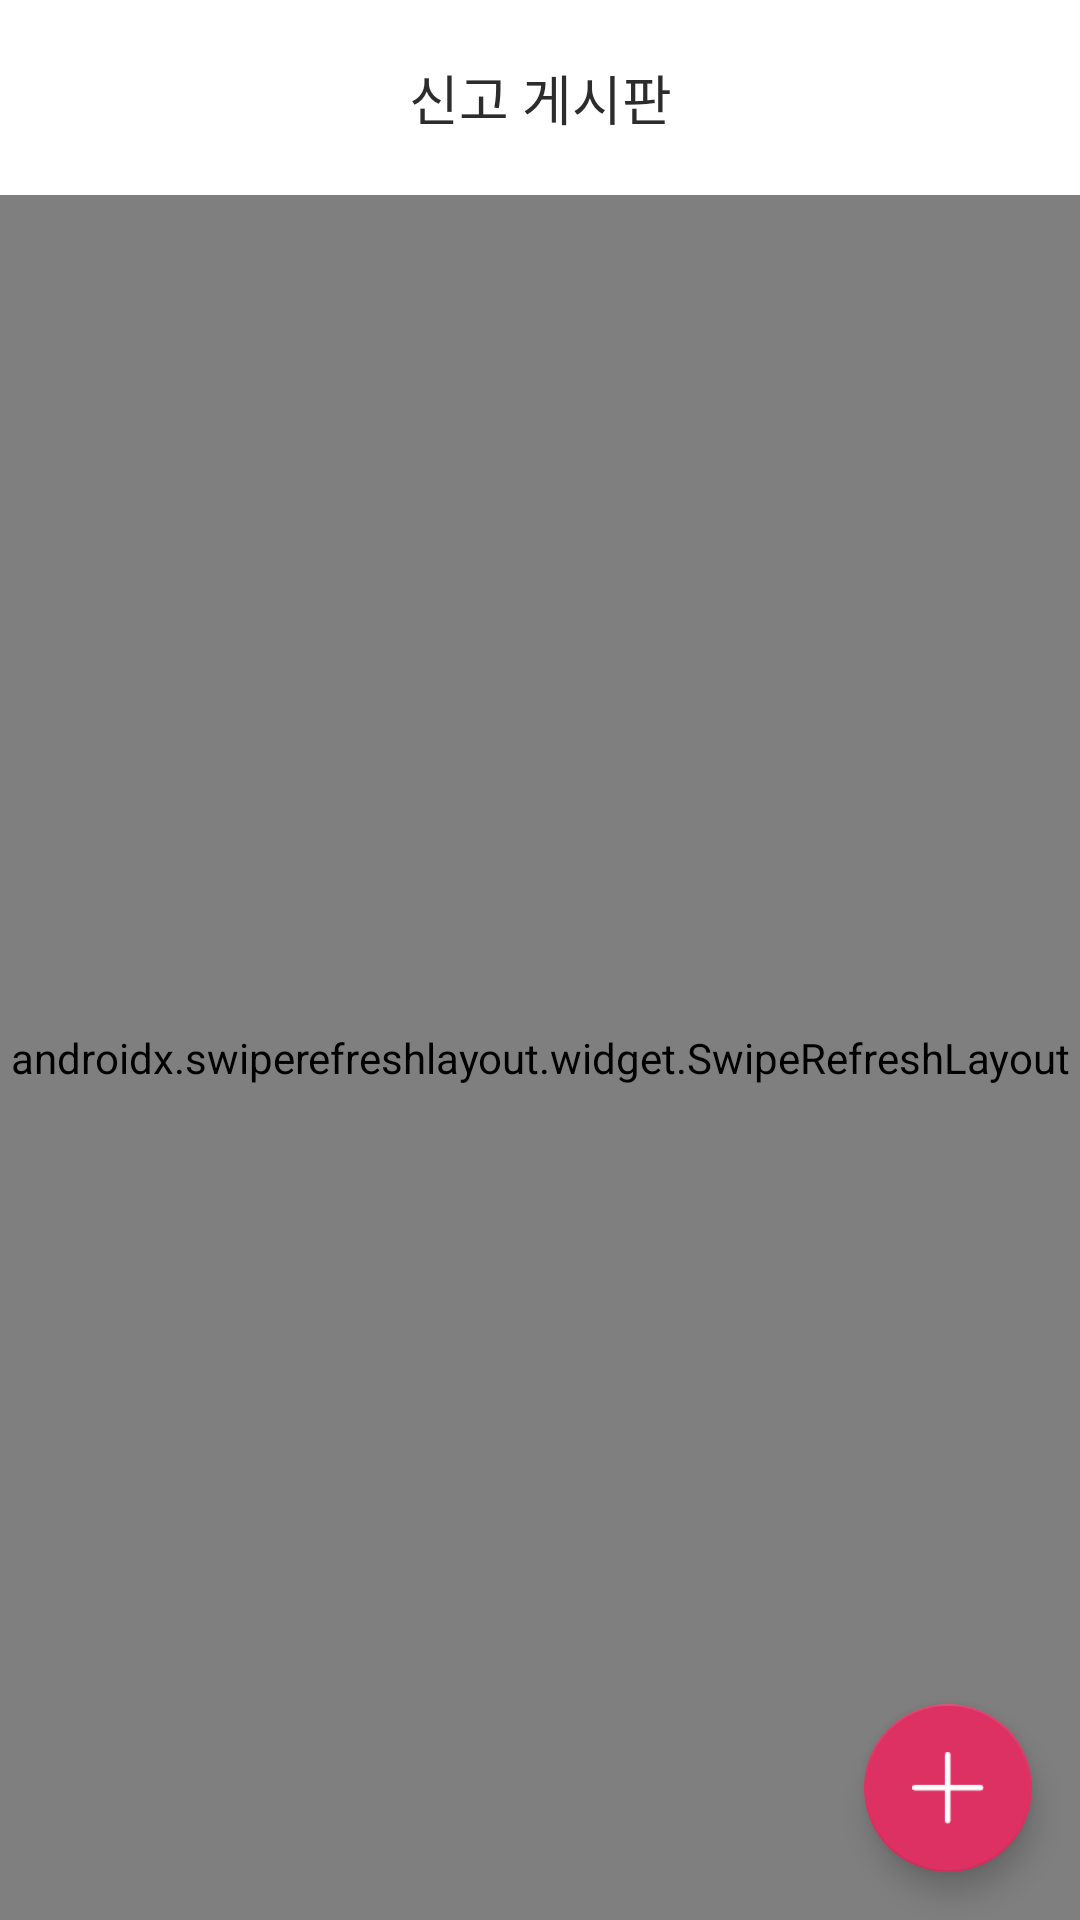

Where icons sit on this 1080×1920 app screen, as (x1, y1, x2, y2):
plus: (864, 1704, 1032, 1872)
